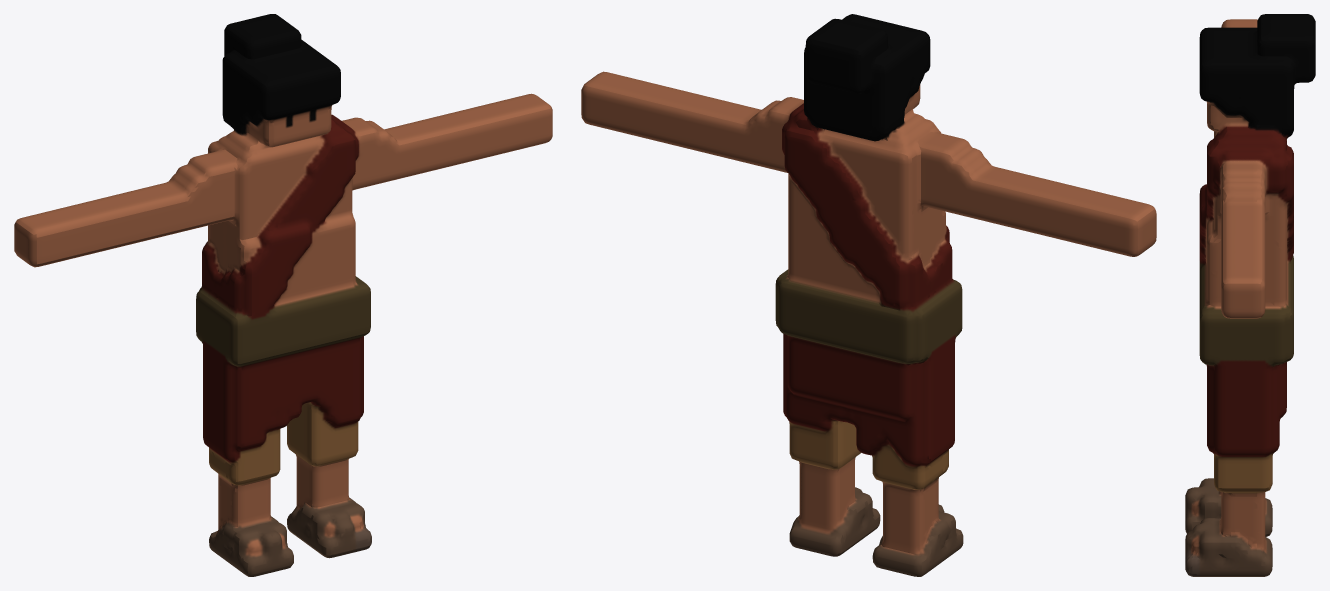
Rendered from normies2_enemy.fbx.
3 renders of one model, left to right at view 1: azimuth 30°, elevation 25°; view 2: azimuth 150°, elevation 25°; view 3: azimuth 270°, elevation 25°, orthographic. The views are drawn at different scales.
Parts seen in each view (by area): view 1: Object; view 2: Object; view 3: Object.
Part boxes in pixels (x1,y1,x2,y2): Object: [14, 14, 552, 576]; Object: [581, 14, 1156, 576]; Object: [1185, 14, 1315, 576].
Size of the model in its own units: 4100 by 3771 by 853.
Materials: 1 (1 with a texture image).
